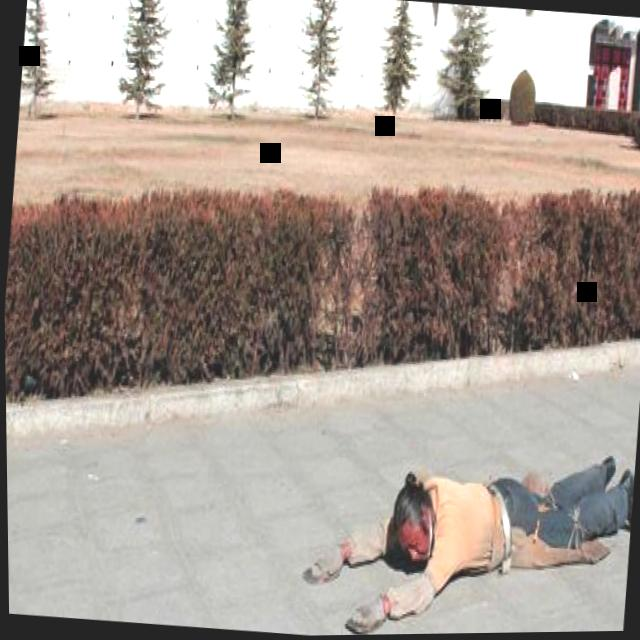Fall-Detected: (307, 402, 638, 636)
